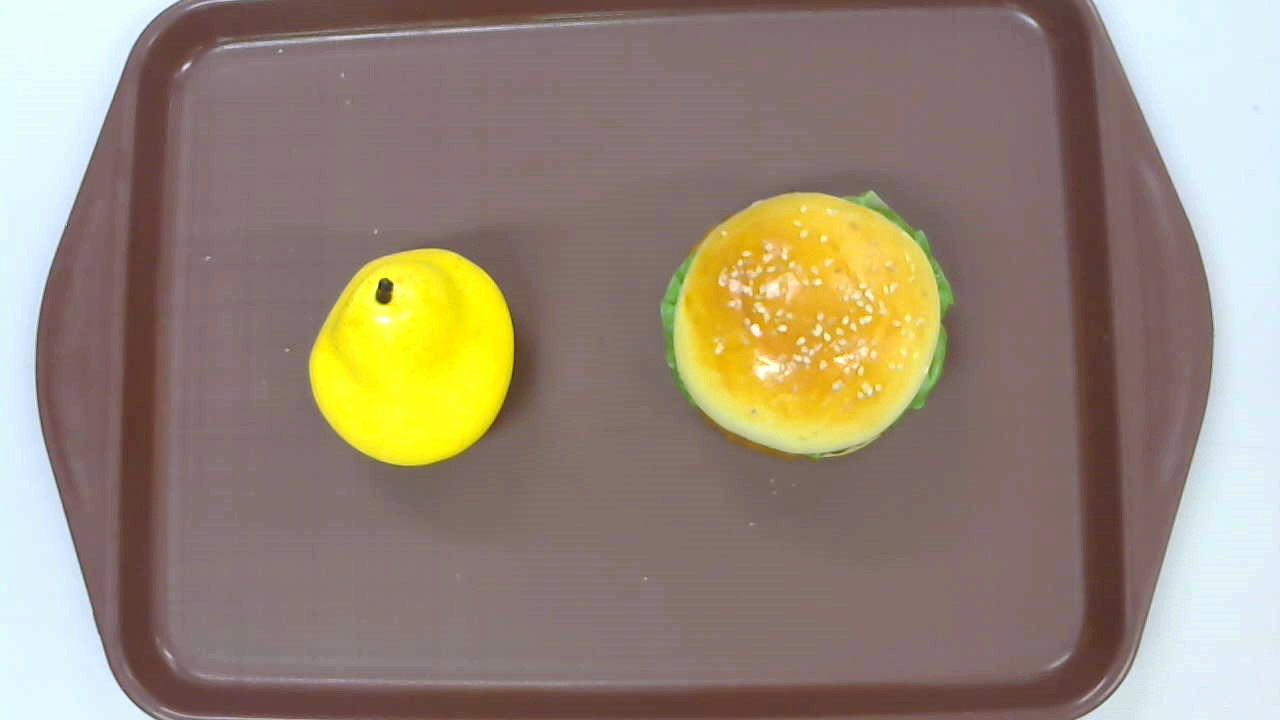hamburger: (658, 187, 956, 464)
yellow pear: (309, 248, 515, 466)
